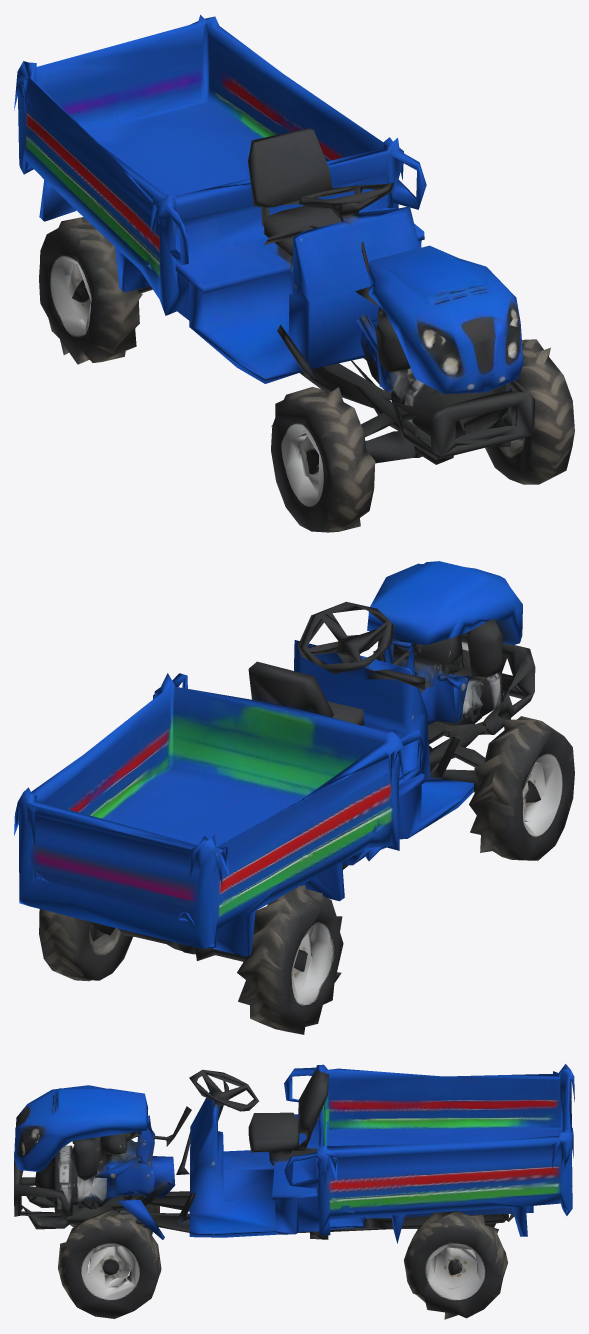
The model's file is patpat.glb.
The picture shows the model from 3 angles, top to bottom: view 1: azimuth 30°, elevation 25°; view 2: azimuth 150°, elevation 25°; view 3: azimuth 270°, elevation 25°; orthographic projection. The views are drawn at different scales.
Visible parts, largest first — view 1: tripo_node_039c9fb6-1cc0-48d7-a520-21f94271e0ab; view 2: tripo_node_039c9fb6-1cc0-48d7-a520-21f94271e0ab; view 3: tripo_node_039c9fb6-1cc0-48d7-a520-21f94271e0ab.
Part boxes in pixels (box(x1,y1,x2,y2)): tripo_node_039c9fb6-1cc0-48d7-a520-21f94271e0ab: box(14, 15, 574, 532); tripo_node_039c9fb6-1cc0-48d7-a520-21f94271e0ab: box(14, 561, 574, 1034); tripo_node_039c9fb6-1cc0-48d7-a520-21f94271e0ab: box(14, 1064, 574, 1319).
Size of the model in its own units: 0.3739 by 0.3847 by 0.9747.
1 material, 1 textured.
